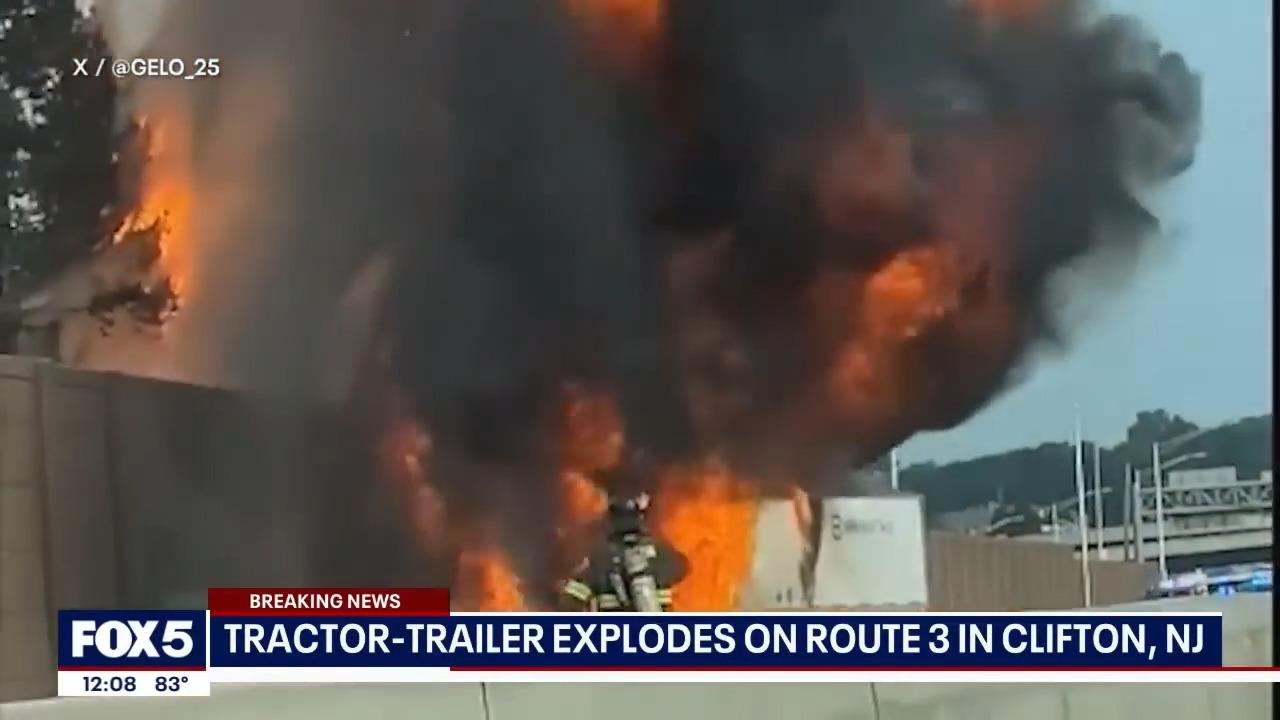fire: (120, 134, 226, 321), (674, 470, 779, 613), (846, 219, 982, 325), (443, 494, 546, 611)
